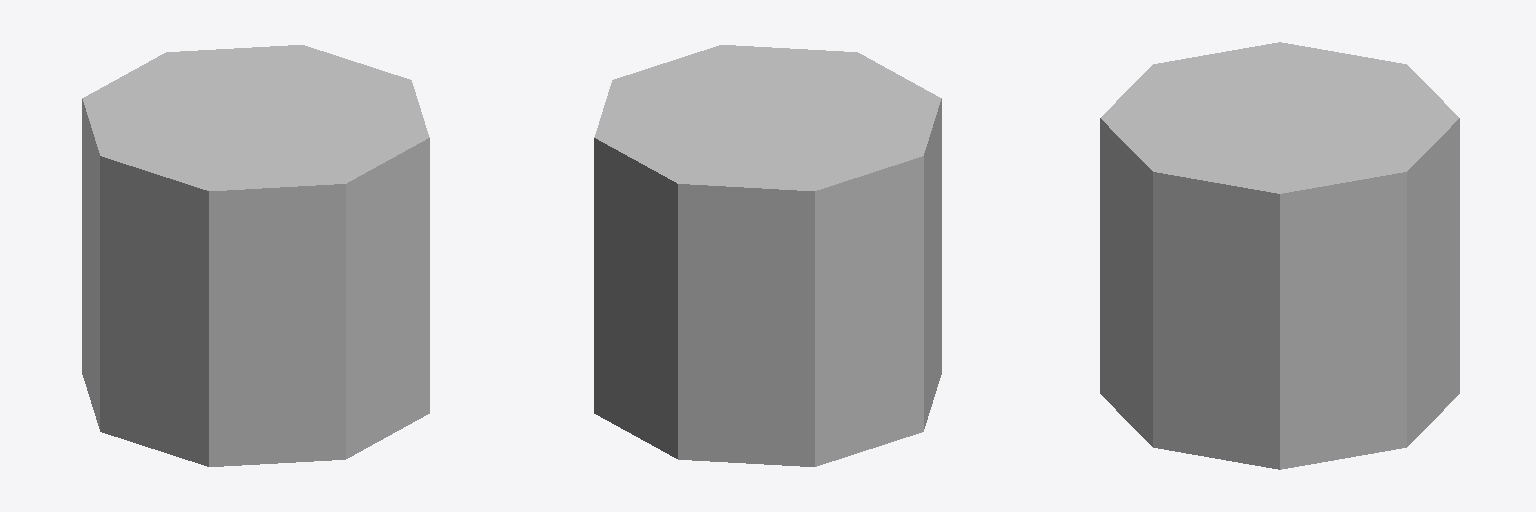
File: CoffeeMug.obj
3 views of the same model, side by side, from view 1: azimuth 30°, elevation 25°; view 2: azimuth 150°, elevation 25°; view 3: azimuth 270°, elevation 25° (orthographic).
Visible parts, largest first — view 1: CoffeeMug; view 2: CoffeeMug; view 3: CoffeeMug.
Boxes of the visible parts, x1=… form: CoffeeMug: x1=82, y1=45, x2=429, y2=466; CoffeeMug: x1=594, y1=45, x2=941, y2=466; CoffeeMug: x1=1100, y1=42, x2=1459, y2=469.
Bounding box in the file's own units: 0.12 × 0.1016 × 0.12.